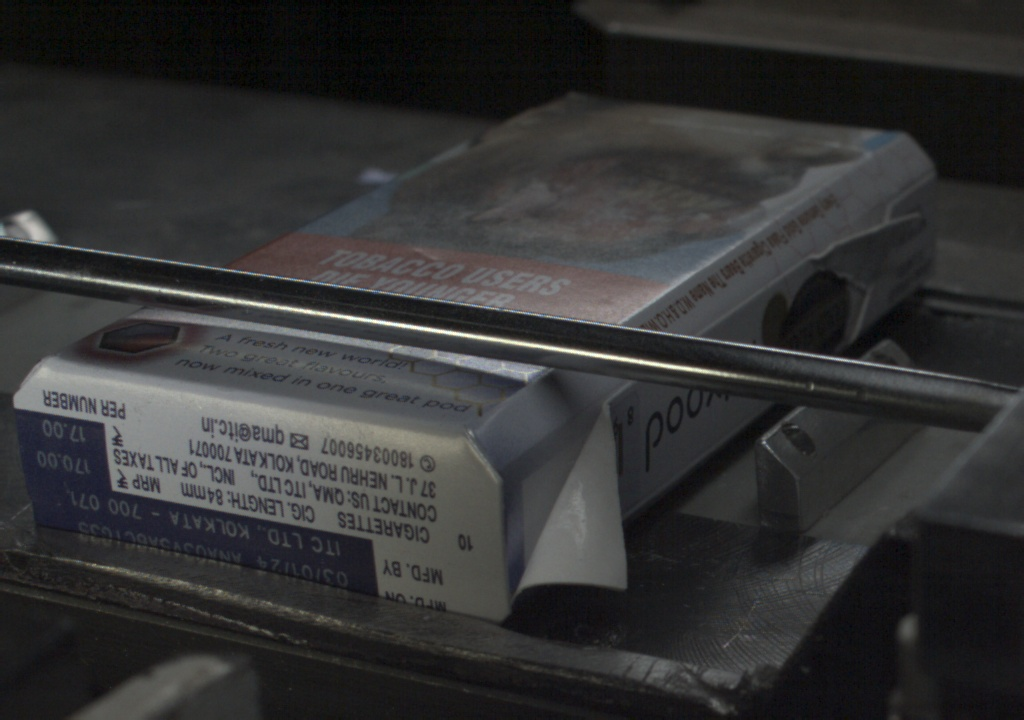g_bottom: (14, 371, 493, 625)
g_label: (25, 485, 377, 596)
g_miter: (888, 162, 939, 213)
ng_lmiter: (507, 393, 634, 600), (814, 215, 917, 268)
price: (19, 418, 112, 486)
